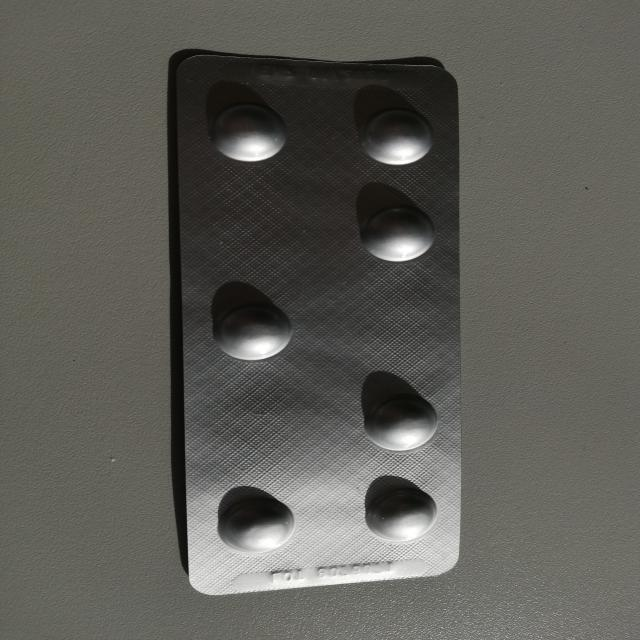Pill: (204, 296, 297, 363), (200, 99, 294, 165), (351, 106, 442, 170), (212, 491, 299, 556), (354, 201, 442, 265), (358, 394, 446, 454), (361, 487, 441, 547)
